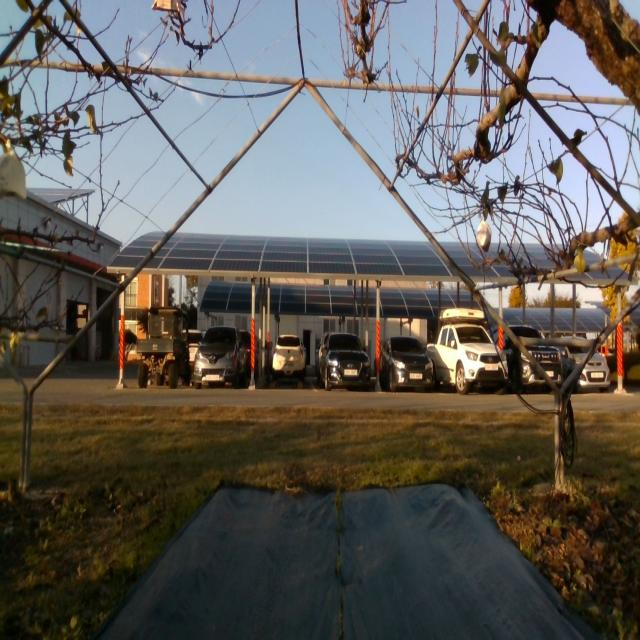pearbags: (0, 152, 26, 200), (477, 220, 491, 253)
